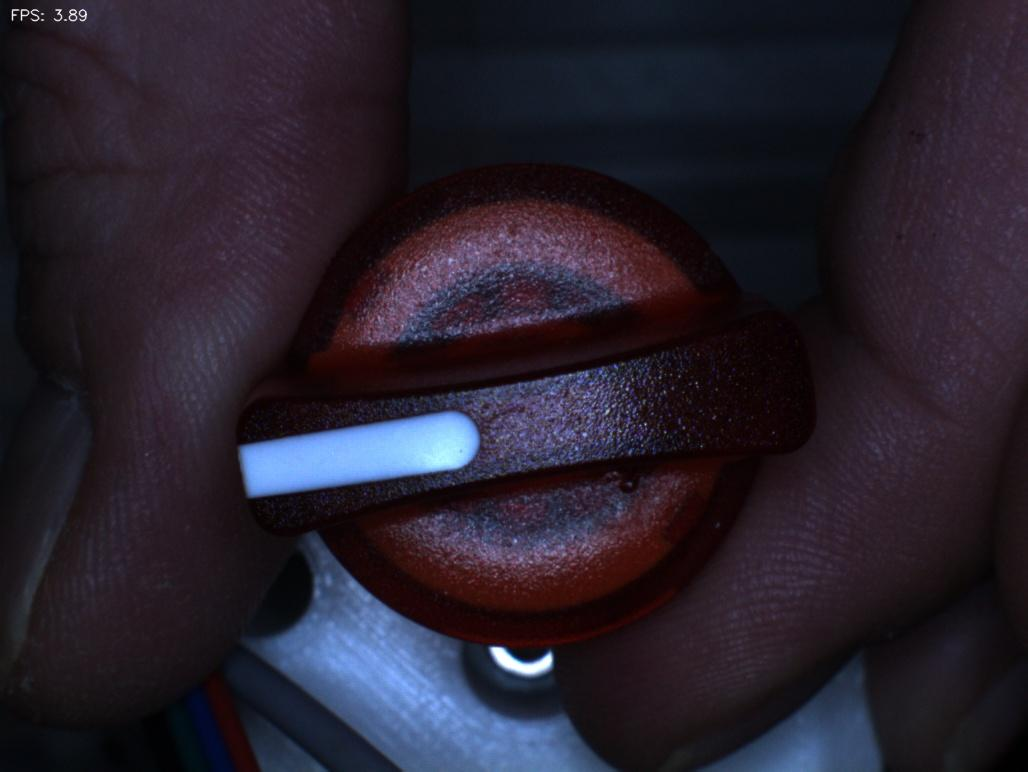Choc: (594, 447, 667, 516)
